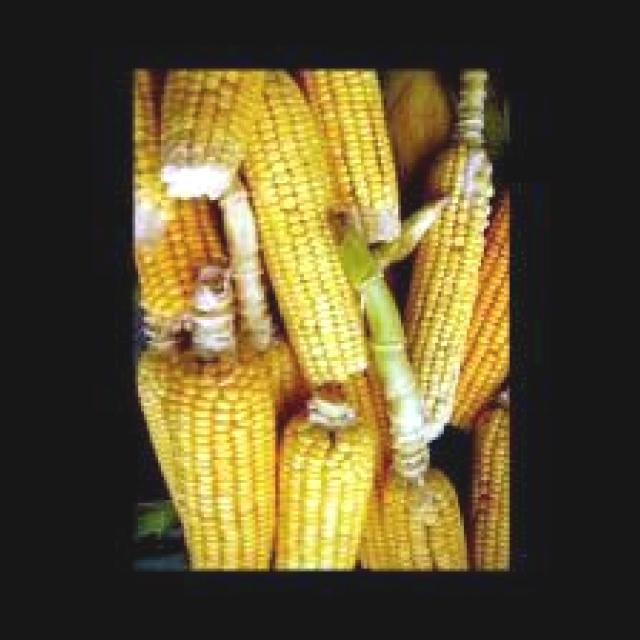corn: (129, 71, 506, 566)
